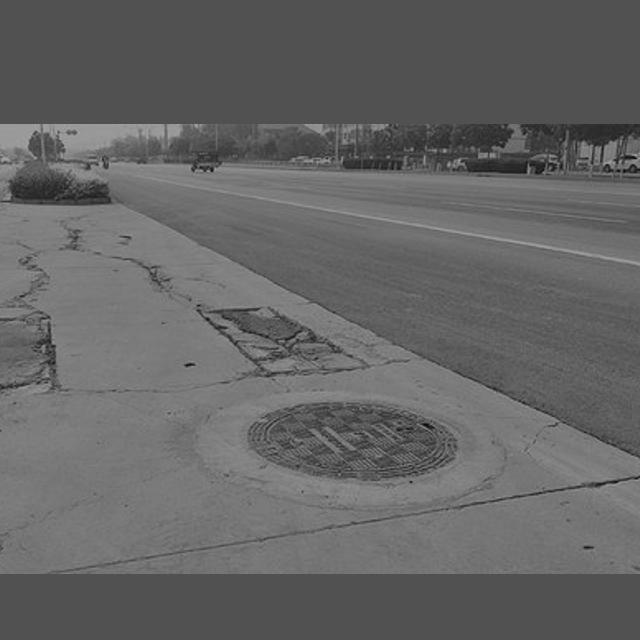good: (197, 386, 516, 509)
